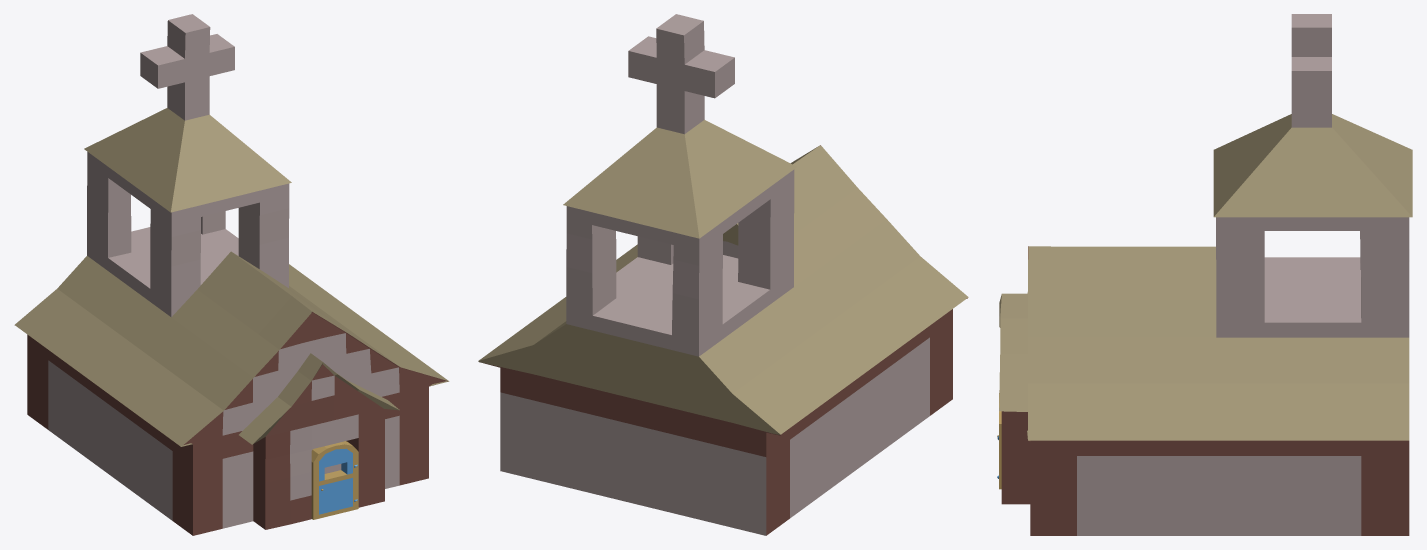
3 views of the same model, side by side, from view 1: azimuth 30°, elevation 25°; view 2: azimuth 150°, elevation 25°; view 3: azimuth 270°, elevation 25° (orthographic). The views are drawn at different scales.
Visible parts, largest first — view 1: Cube.003, Cube, Cube.004, Cube.002, Cube.001, Cube.007, Cube.005; view 2: Cube, Cube.003, Cube.004; view 3: Cube.003, Cube, Cube.004, Cube.005, Cube.002.
Part boxes in pixels (x1,y1,x2,y2): Cube.003: [14, 108, 449, 446]; Cube: [48, 14, 399, 528]; Cube.004: [27, 274, 447, 535]; Cube.002: [253, 376, 384, 529]; Cube.001: [311, 441, 358, 519]; Cube.007: [290, 414, 358, 500]; Cube.005: [239, 353, 399, 444]; Cube: [500, 14, 929, 535]; Cube.003: [478, 119, 968, 435]; Cube.004: [483, 145, 967, 535]; Cube.003: [1027, 114, 1412, 440]; Cube: [1077, 14, 1409, 535]; Cube.004: [1028, 246, 1409, 535]; Cube.005: [999, 293, 1027, 411]; Cube.002: [1001, 411, 1030, 504].
Bounding box in the file's own units: 1840 × 2577 × 2156.
